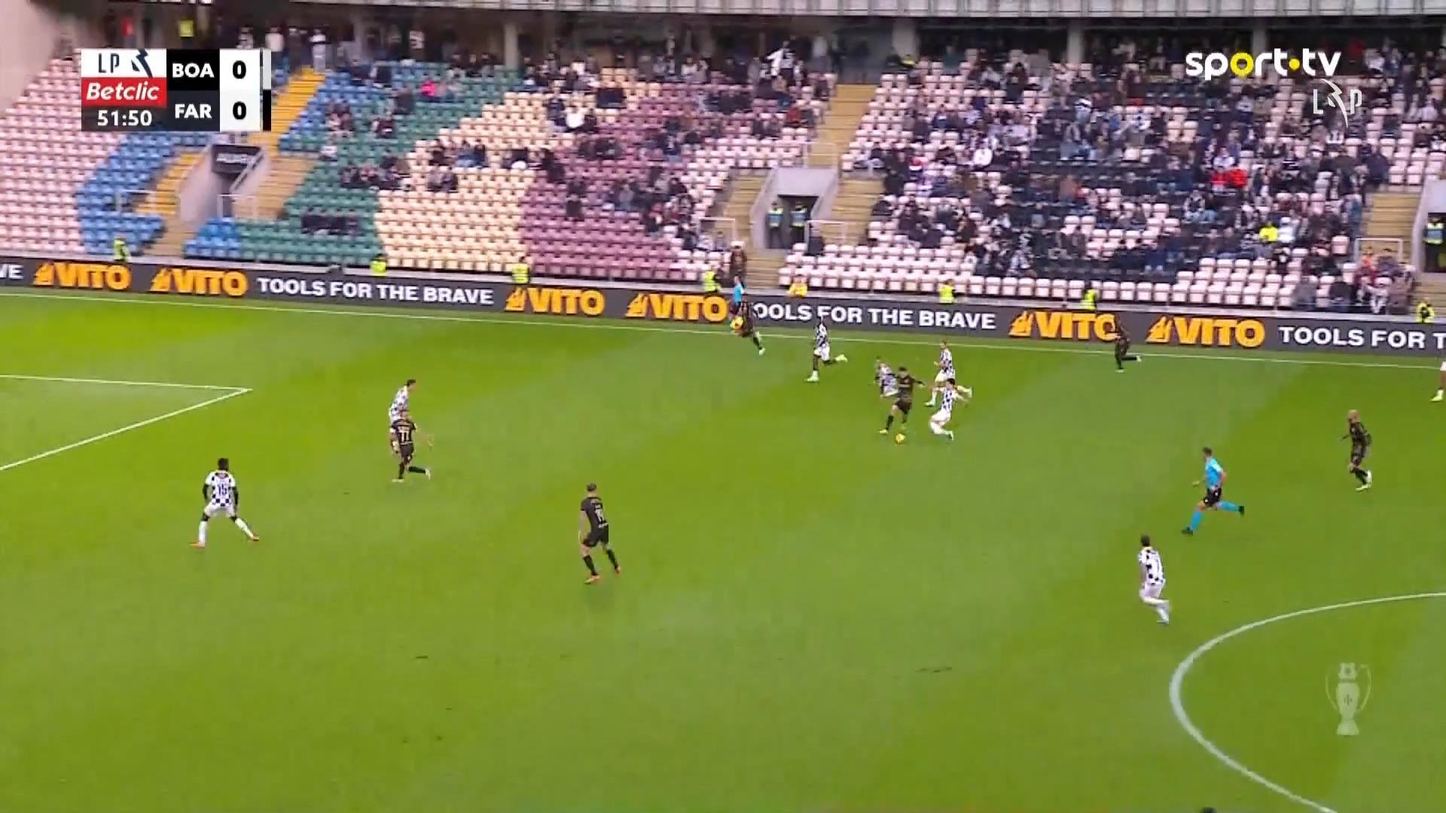ball: (894, 433, 905, 443)
player: (189, 456, 260, 548), (576, 482, 621, 583), (877, 364, 924, 441), (1136, 533, 1171, 624), (388, 410, 432, 482), (926, 376, 973, 440), (1338, 408, 1373, 490), (804, 316, 847, 382), (386, 377, 416, 455), (925, 339, 958, 406), (731, 299, 766, 355), (1109, 321, 1142, 371), (872, 355, 897, 399), (1429, 360, 1445, 401)
referee: (1180, 445, 1245, 535), (730, 275, 744, 331)
